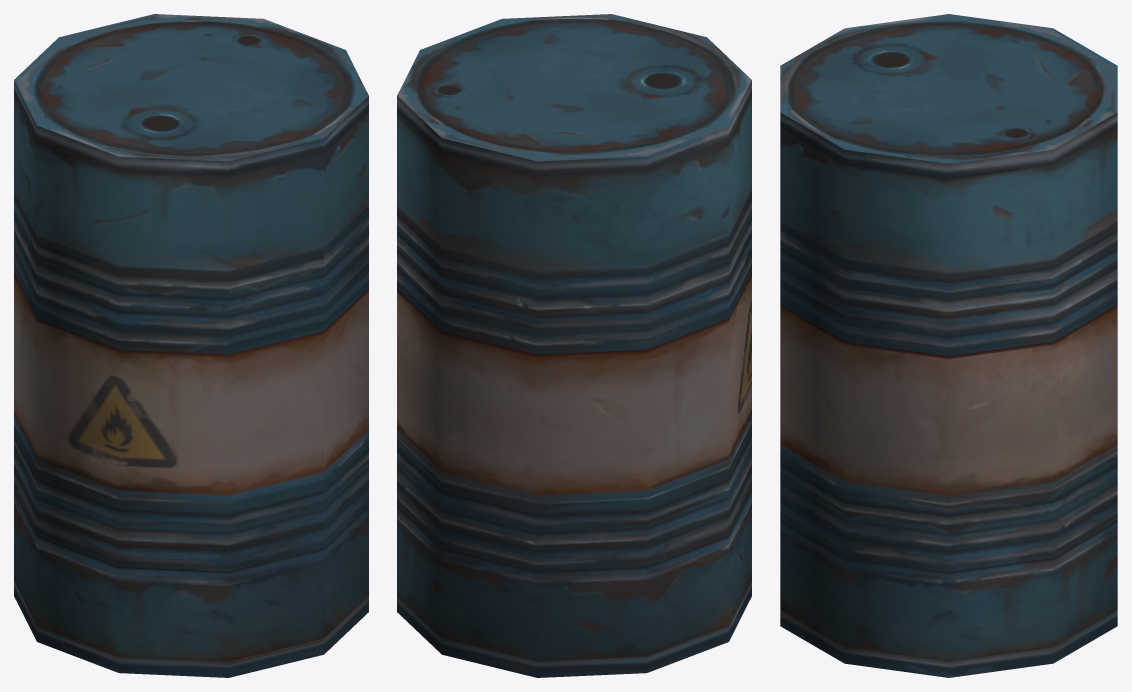
The model's file is OilBarrel2.FBX.
The picture shows the model from 3 angles, left to right: view 1: azimuth 30°, elevation 25°; view 2: azimuth 150°, elevation 25°; view 3: azimuth 270°, elevation 25°; orthographic projection.
Visible parts, largest first — view 1: Cylinder002; view 2: Cylinder002; view 3: Cylinder002.
Boxes of the visible parts, x1,y1,x2,y2 form: Cylinder002: [14, 14, 368, 677]; Cylinder002: [397, 14, 751, 677]; Cylinder002: [780, 14, 1117, 677].
Size of the model in its own units: 0.6689 by 1.07 by 0.6361.
1 material, 1 textured.
